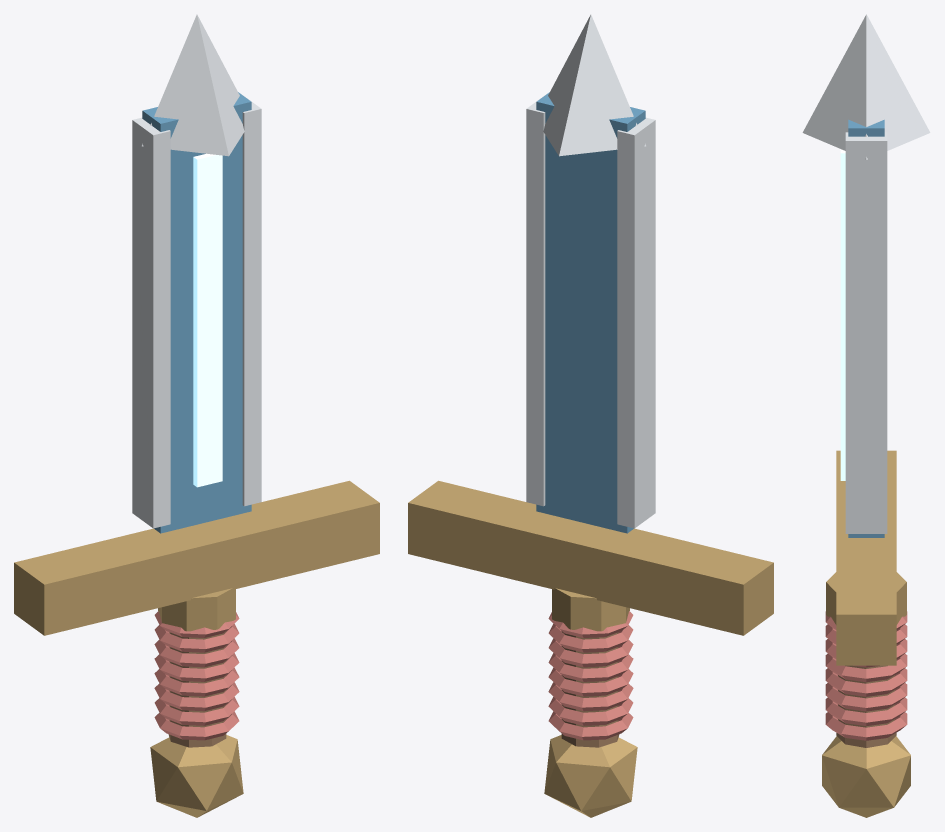
The model's file is colored_two_handed_sword.glb.
The picture shows the model from 3 angles, left to right: view 1: azimuth 30°, elevation 25°; view 2: azimuth 150°, elevation 25°; view 3: azimuth 270°, elevation 25°; orthographic projection.
Visible parts, largest first — view 1: Crossguard.002, Blade.002, EdgeLeft.002, Fuller.004, EdgeRight.002, BladePoint.002, Pommel.002, GripFerrule.002, GripCore.002, GripWrap_4.012, GripWrap_2.012, GripWrap_1.012 (+5 smaller); view 2: Crossguard.002, Blade.002, EdgeLeft.002, EdgeRight.002, BladePoint.002, Pommel.002, GripFerrule.002, GripCore.002, GripWrap_4.012, GripWrap_2.012, GripWrap_1.012, GripWrap_3.012 (+4 smaller); view 3: EdgeRight.002, Crossguard.002, BladePoint.002, Pommel.002, Fuller.004, GripWrap_1.012, GripWrap_3.012, GripWrap_0.012, GripWrap_2.012, GripWrap_4.012, GripCore.002, GripFerrule.002 (+3 smaller).
Boxes of the visible parts, bbox=[...] form: Crossguard.002: bbox=[14, 480, 379, 635]; Blade.002: bbox=[142, 92, 251, 533]; EdgeLeft.002: bbox=[132, 117, 170, 528]; Fuller.004: bbox=[193, 153, 222, 487]; EdgeRight.002: bbox=[241, 94, 261, 506]; BladePoint.002: bbox=[142, 14, 244, 156]; Pommel.002: bbox=[150, 735, 243, 817]; GripFerrule.002: bbox=[158, 588, 235, 631]; GripCore.002: bbox=[168, 631, 226, 747]; GripWrap_4.012: bbox=[154, 653, 239, 681]; GripWrap_2.012: bbox=[154, 682, 239, 711]; GripWrap_1.012: bbox=[154, 697, 239, 725]; Crossguard.002: bbox=[408, 480, 773, 635]; Blade.002: bbox=[536, 92, 645, 533]; EdgeLeft.002: bbox=[617, 117, 655, 528]; EdgeRight.002: bbox=[526, 94, 546, 506]; BladePoint.002: bbox=[543, 14, 645, 156]; Pommel.002: bbox=[544, 735, 637, 817]; GripFerrule.002: bbox=[552, 588, 629, 631]; GripCore.002: bbox=[561, 631, 619, 747]; GripWrap_4.012: bbox=[548, 653, 633, 681]; GripWrap_2.012: bbox=[548, 682, 633, 711]; GripWrap_1.012: bbox=[548, 697, 633, 725]; GripWrap_3.012: bbox=[548, 667, 633, 696]; EdgeRight.002: bbox=[845, 132, 887, 533]; Crossguard.002: bbox=[836, 450, 896, 665]; BladePoint.002: bbox=[802, 14, 930, 159]; Pommel.002: bbox=[822, 736, 910, 817]; Fuller.004: bbox=[840, 149, 845, 480]; GripWrap_1.012: bbox=[825, 697, 907, 725]; GripWrap_3.012: bbox=[825, 668, 907, 696]; GripWrap_0.012: bbox=[825, 712, 907, 740]; GripWrap_2.012: bbox=[825, 683, 907, 711]; GripWrap_4.012: bbox=[825, 653, 907, 682]; GripCore.002: bbox=[836, 665, 896, 747]; GripFerrule.002: bbox=[826, 572, 906, 624].
Size of the model in its own units: 0.96 by 2.2 by 0.3172.
